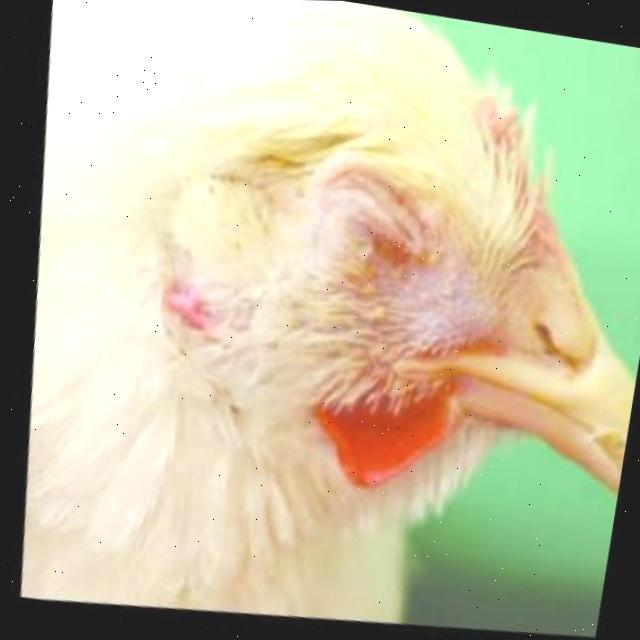Coryza: (298, 117, 464, 290)
